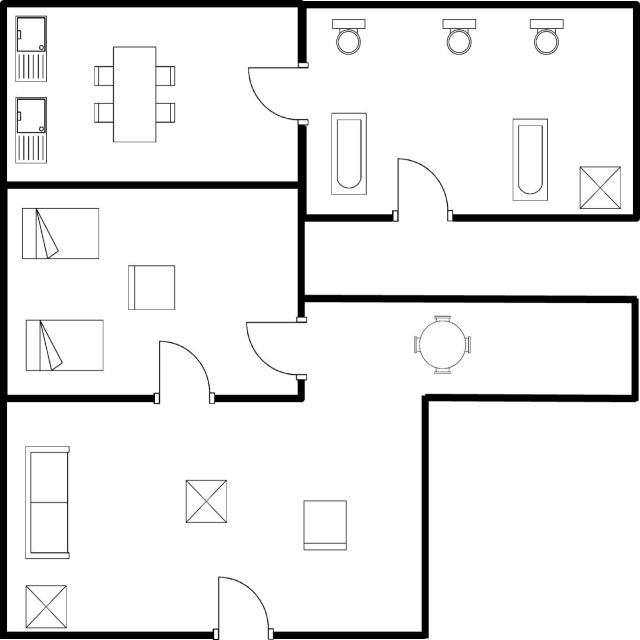bed: (21, 315, 108, 375), (18, 202, 102, 263)
coffee_table: (180, 475, 230, 527), (575, 161, 623, 212)
dining_table: (90, 41, 181, 148)
large_sink: (522, 15, 566, 58), (438, 15, 480, 60), (325, 15, 371, 55)
large_sofa: (19, 441, 74, 564)
round_table: (409, 310, 474, 377)
sink: (11, 13, 54, 86), (11, 92, 50, 166)
small_sofa: (298, 496, 353, 558), (123, 261, 181, 315)
tub: (326, 109, 371, 198), (508, 114, 552, 204)
